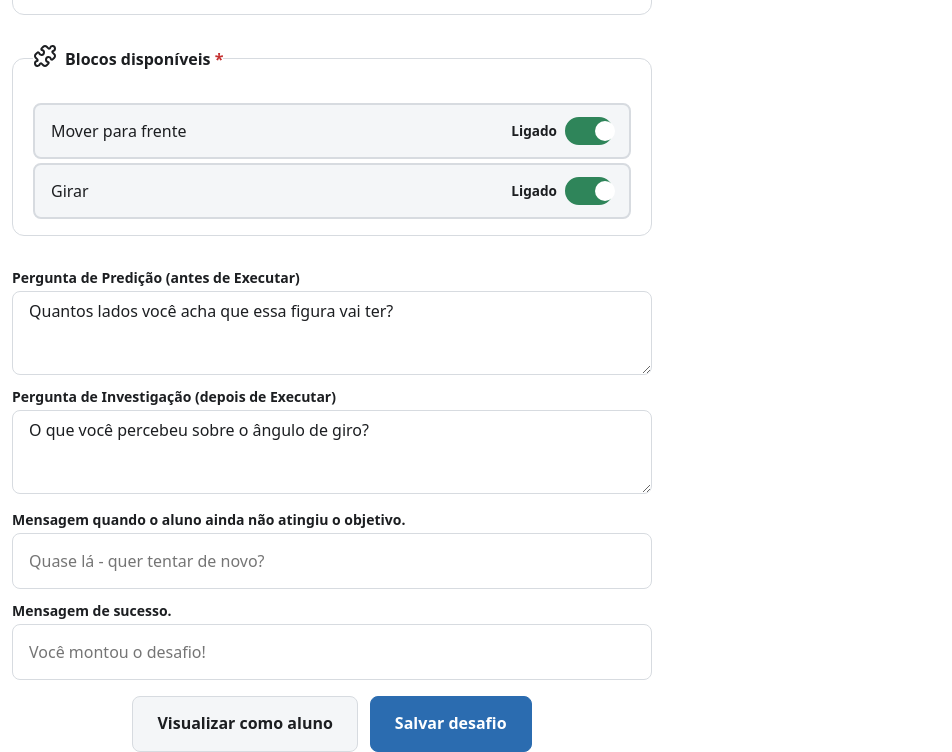
Test: TemplateChallengeForm › AC3/AC4 - "Visualizar como aluno" shows the pedagogical error instead of a preview for an invalid combination
(page scrolled)
Click the button "Visualizar como aluno". click: point(245, 724)
box: [132,696,358,751]
(page scrolled)
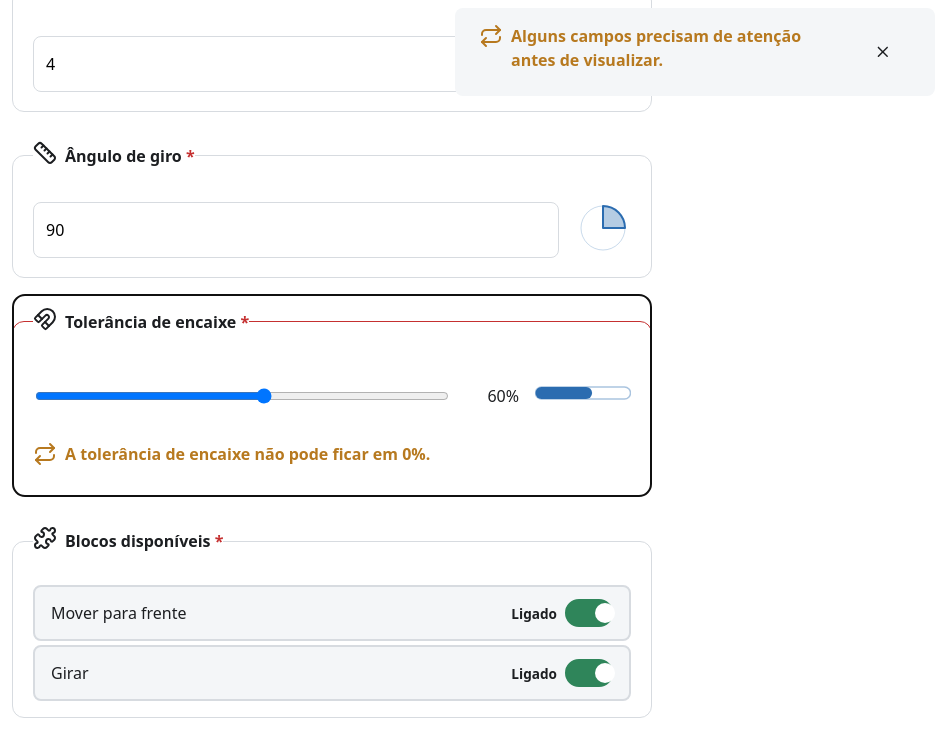
Expected: the text "A tolerância de encaixe não pode ficar em 0%." is shown, [65,442,430,466]
